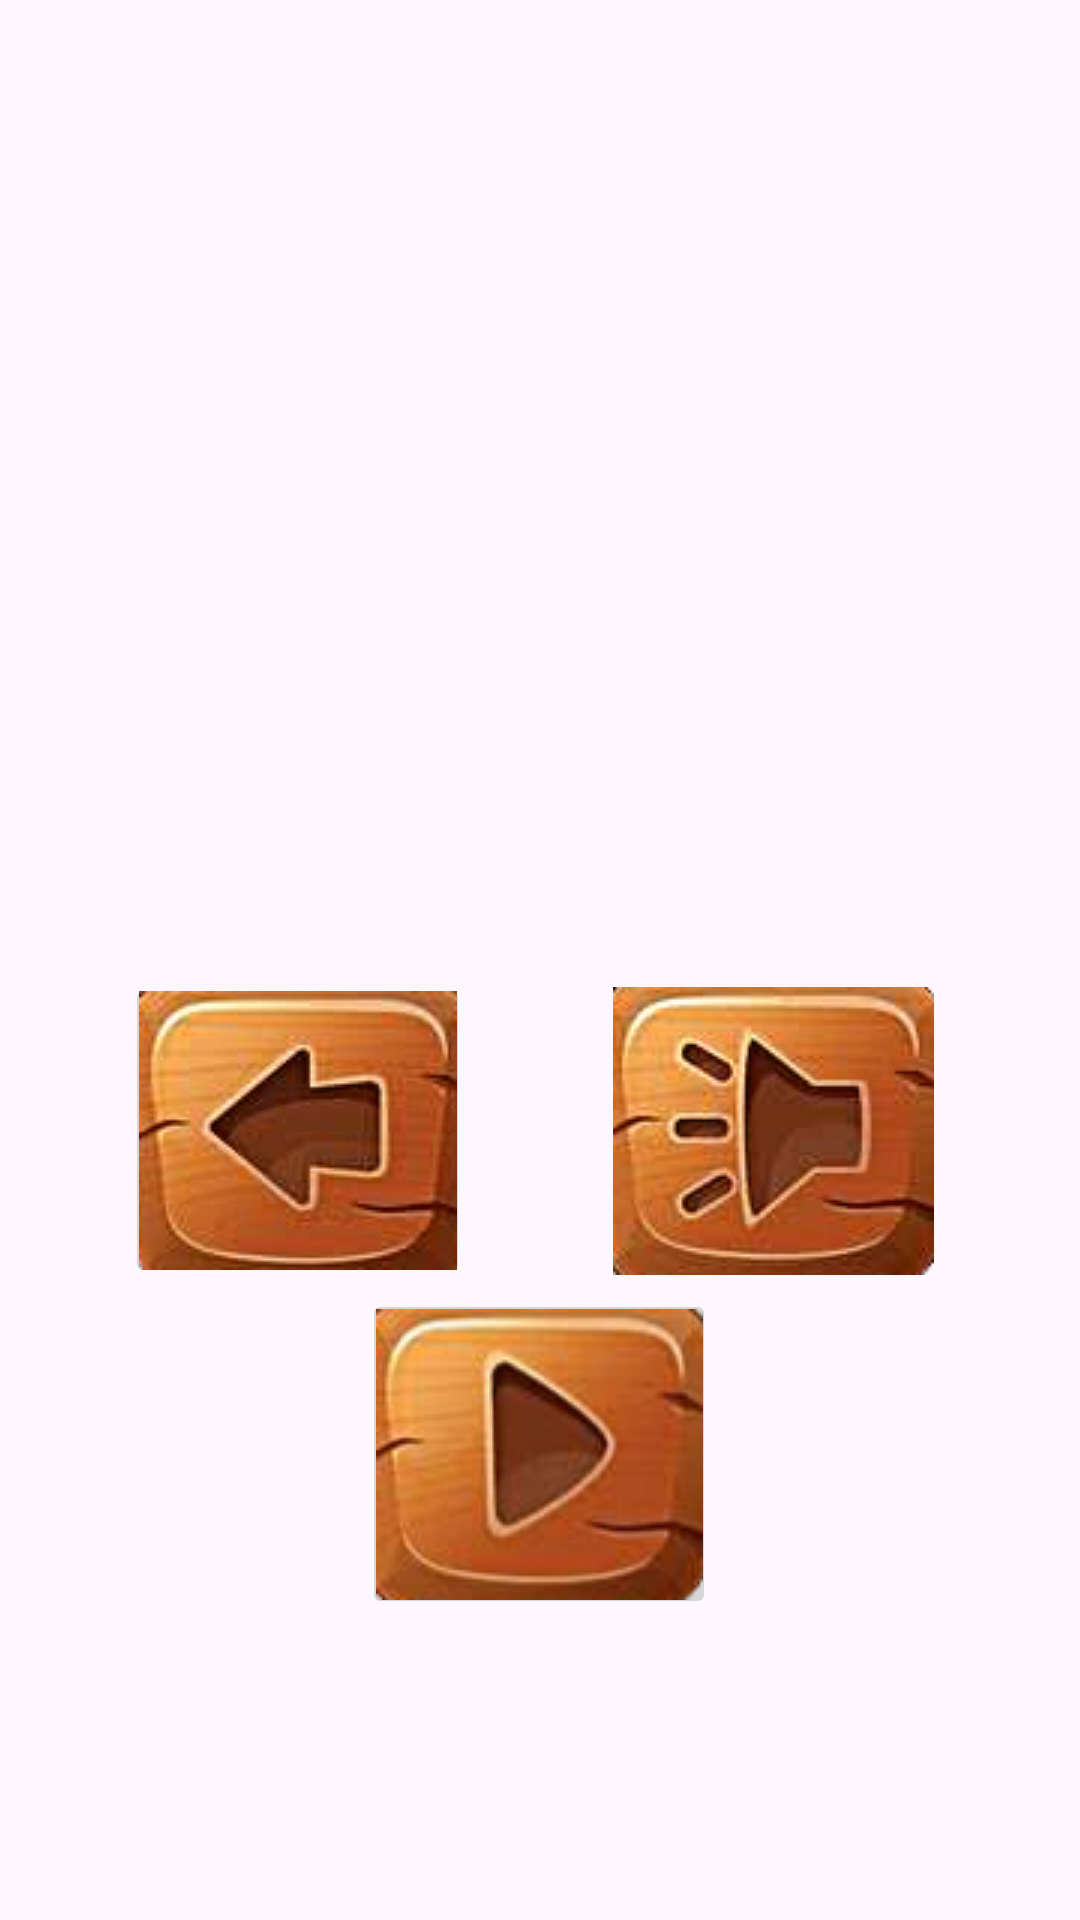

Named icons in this screenshot (1080*1920) and their centers, [x,y]:
exit: [297,1130]
music: [773,1131]
playbutton: [539,1454]
